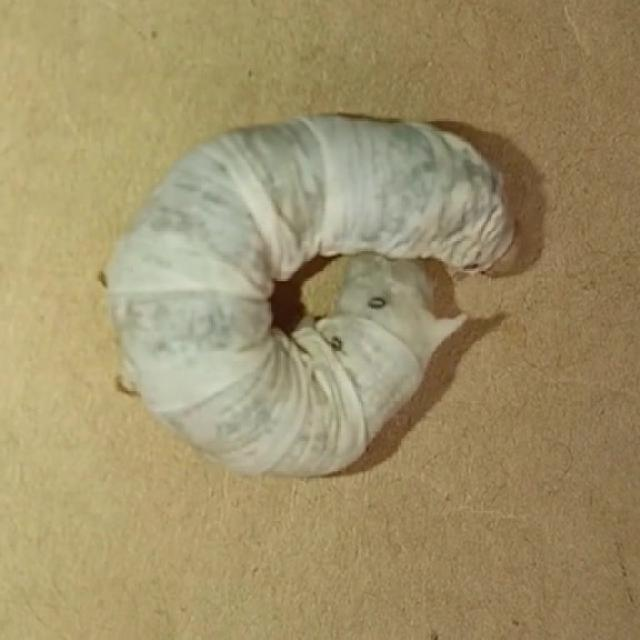Grasserie: (95, 83, 537, 496)
